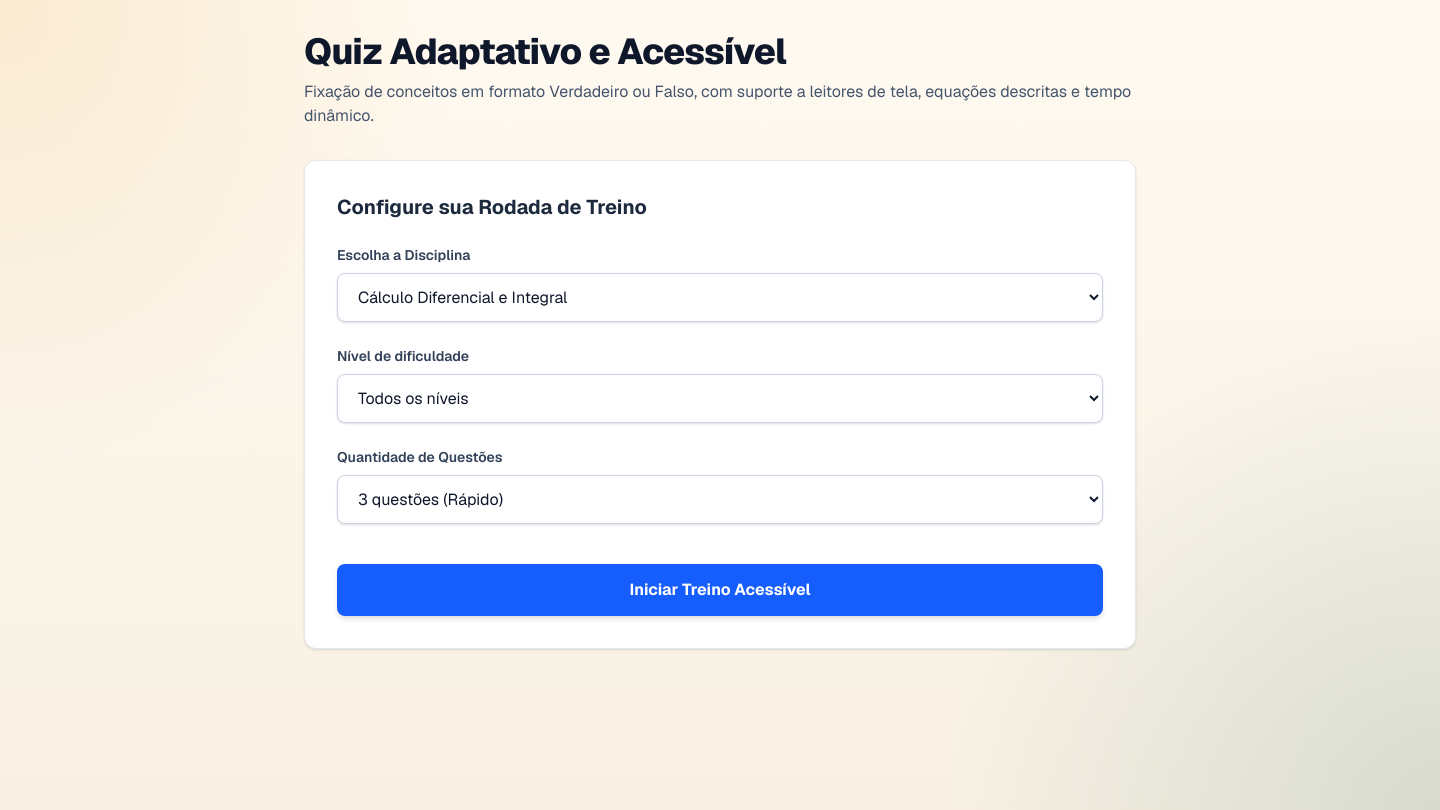
Test case: quiz with a screen reader › moves focus to the final result and states the score
Step 1. Click the button "Iniciar Treino Acessível" → (720, 590), box [337,564,1103,616]
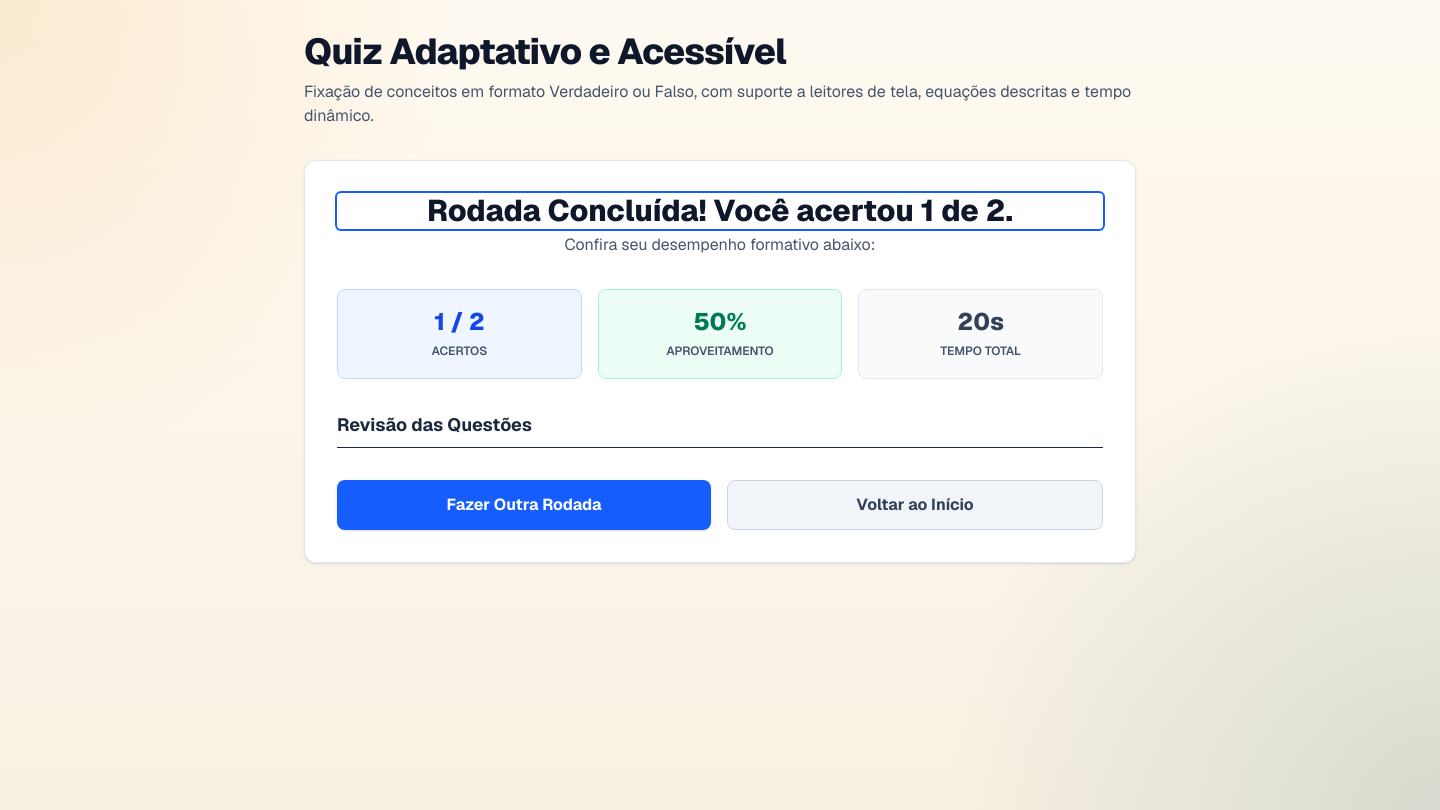
Result: the heading "Rodada Concluída! Você acertou 1 de 2." is shown at [337,193,1103,229]
